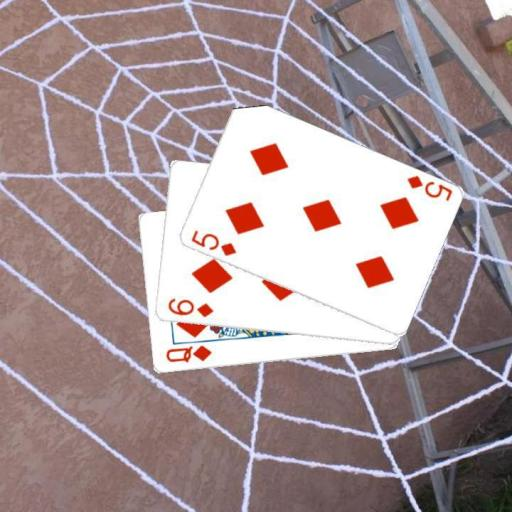card-corner: (187, 227, 238, 258), (403, 172, 454, 203), (164, 295, 215, 319), (162, 342, 213, 364)
